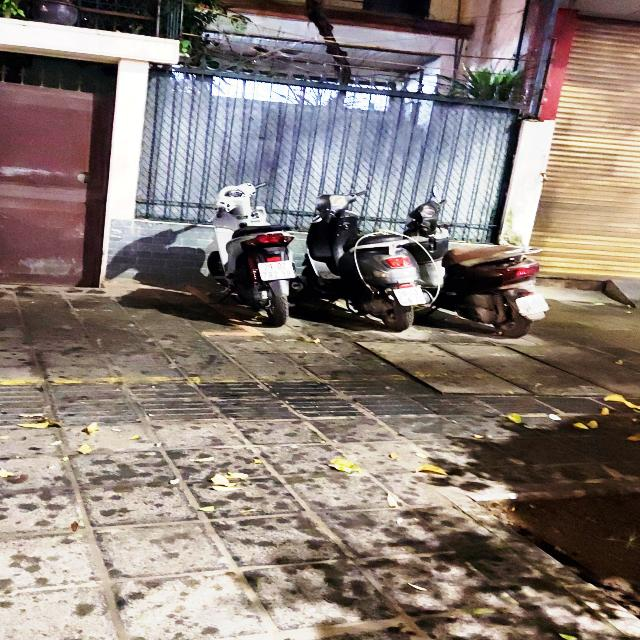license_plate: (256, 258, 300, 284)
